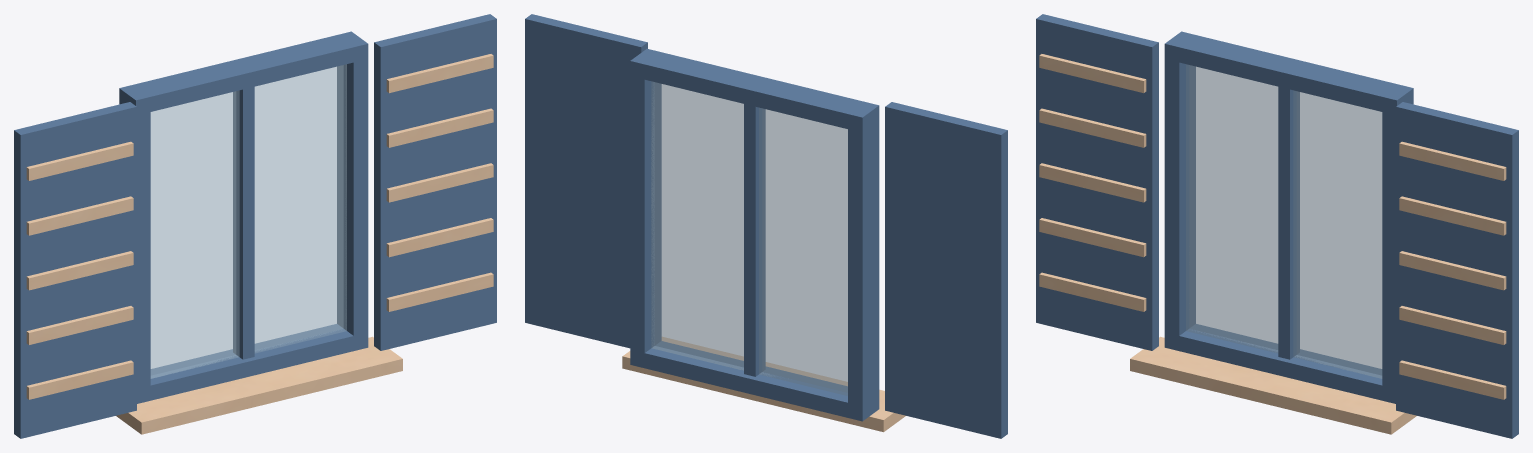
File: Window_Shutters.fbx
3 renders of one model, left to right at view 1: azimuth 30°, elevation 25°; view 2: azimuth 150°, elevation 25°; view 3: azimuth 330°, elevation 25°, orthographic.
Parts seen in each view (by area): view 1: Window_Shutters; view 2: Window_Shutters; view 3: Window_Shutters.
Part boxes in pixels (<box>): Window_Shutters: <box>14,14,496,438</box>; Window_Shutters: <box>525,14,1007,438</box>; Window_Shutters: <box>1036,14,1518,438</box>.
Size of the model in its own units: 1.64 by 1.04 by 0.22.
2 materials, 1 textured.
